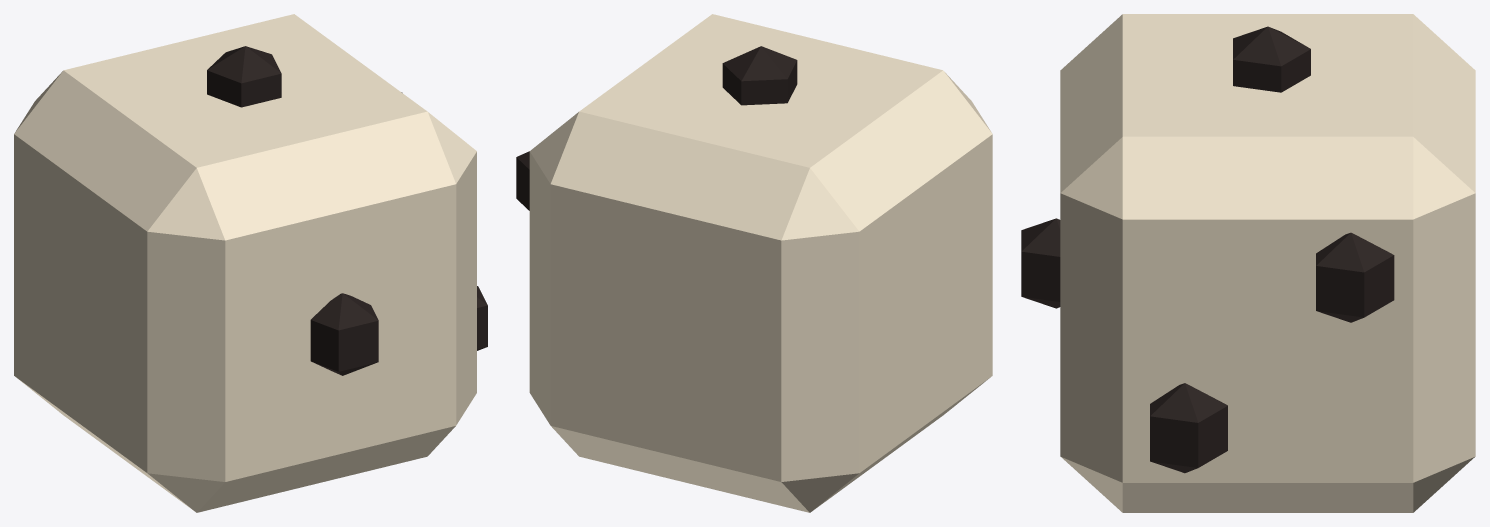
File: PR_Decor_Zar.fbx
3 views of the same model, side by side, from view 1: azimuth 30°, elevation 25°; view 2: azimuth 150°, elevation 25°; view 3: azimuth 270°, elevation 25° (orthographic). The views are drawn at different scales.
Visible parts, largest first — view 1: PR_Decor_Zar; view 2: PR_Decor_Zar; view 3: PR_Decor_Zar.
Boxes of the visible parts, x1,y1,x2,y2 form: PR_Decor_Zar: (14, 14, 487, 512); PR_Decor_Zar: (516, 14, 992, 512); PR_Decor_Zar: (1021, 14, 1475, 512).
Bounding box in the file's own units: 0.1109 × 0.113 × 0.1094.
Materials: 1 (1 with a texture image).
